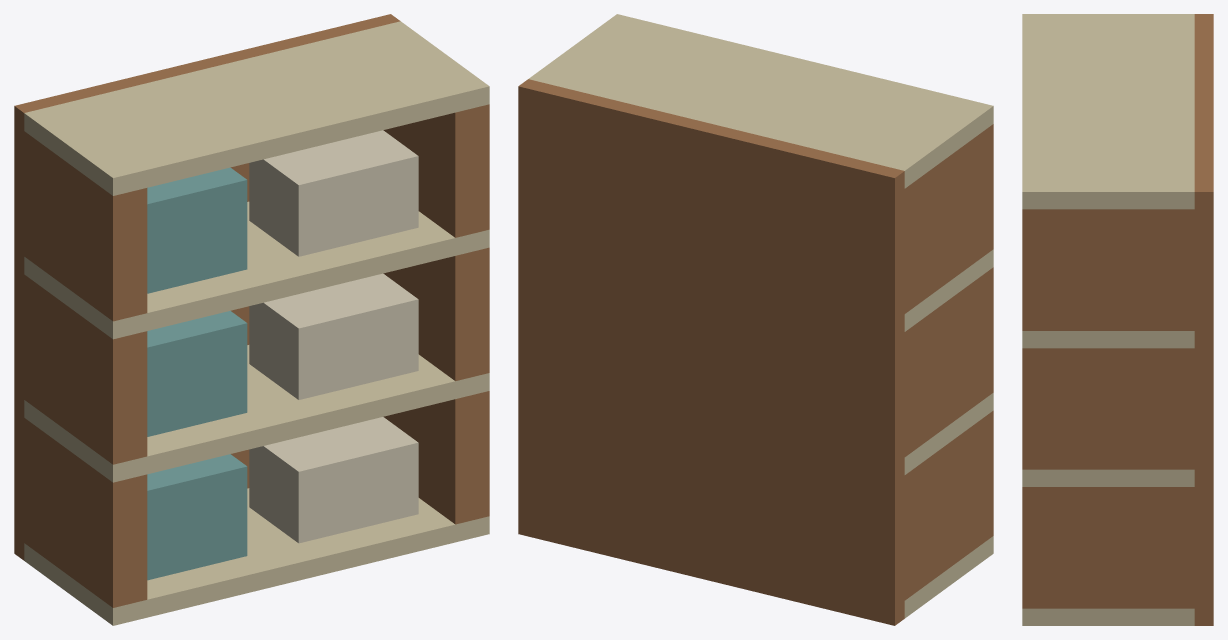
Rendered from health-03.glb.
3 renders of one model, left to right at view 1: azimuth 30°, elevation 25°; view 2: azimuth 150°, elevation 25°; view 3: azimuth 270°, elevation 25°, orthographic. The views are drawn at different scales.
Parts seen in each view (by area): view 1: Medicine cabinet; view 2: Medicine cabinet; view 3: Medicine cabinet.
Boxes of the visible parts, x1,y1,x2,y2 form: Medicine cabinet: (14, 14, 489, 625); Medicine cabinet: (518, 14, 993, 625); Medicine cabinet: (1022, 14, 1213, 625).
Size of the model in its own units: 1.76 by 2 by 0.8.
